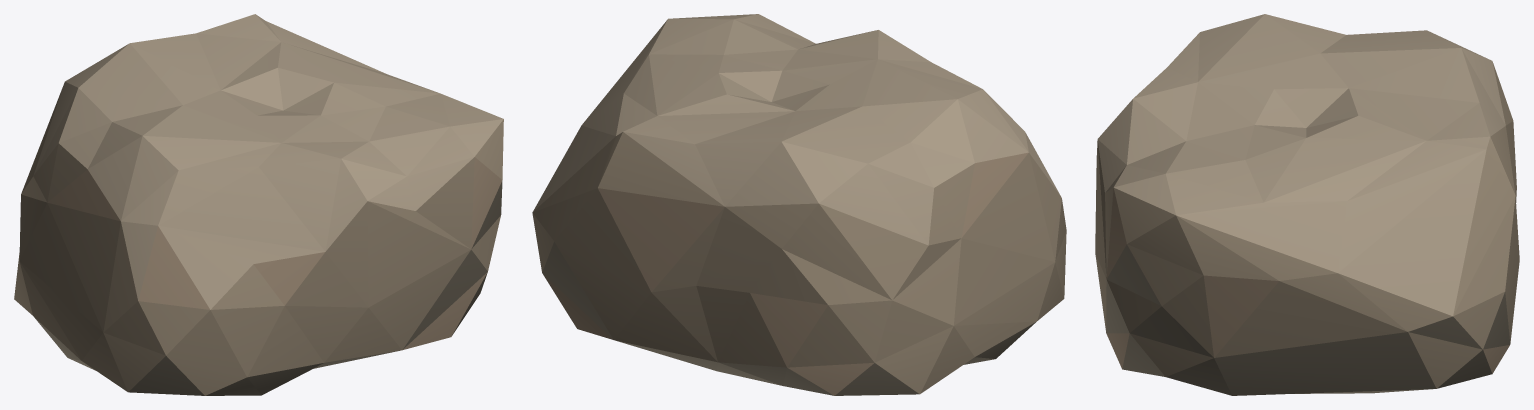
File: coast_scatter_a.glb
3 views of the same model, side by side, from view 1: azimuth 30°, elevation 25°; view 2: azimuth 150°, elevation 25°; view 3: azimuth 270°, elevation 25° (orthographic). The views are drawn at different scales.
Visible parts, largest first — view 1: coast_scatter_a; view 2: coast_scatter_a; view 3: coast_scatter_a.
Boxes of the visible parts, box(x1,y1,x2,y2) form: coast_scatter_a: box(14, 14, 503, 395); coast_scatter_a: box(532, 14, 1066, 395); coast_scatter_a: box(1095, 14, 1519, 395).
Bounding box in the file's own units: 1 × 0.55 × 0.85.
